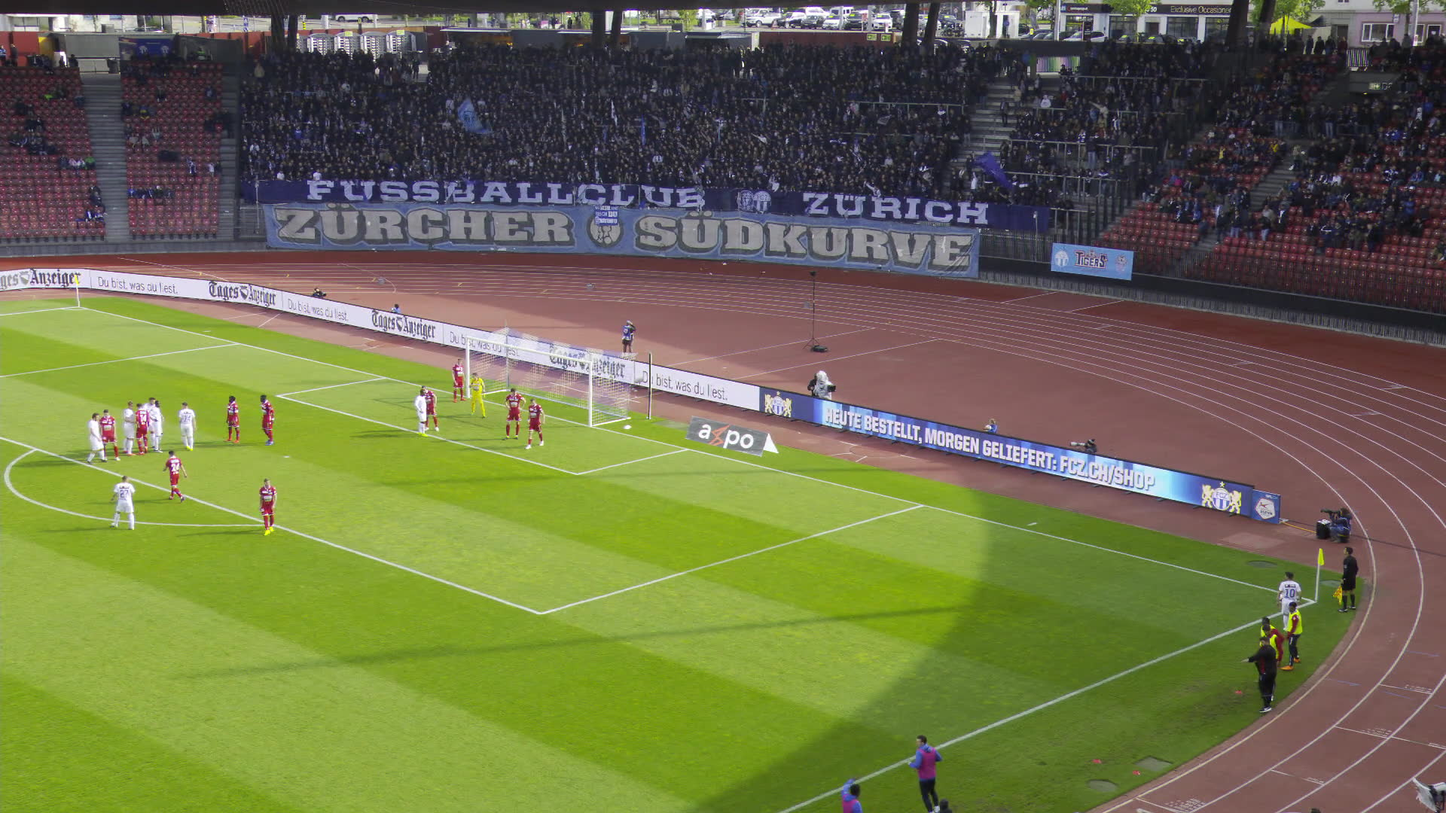ball: (1276, 593, 1281, 599)
player: (1276, 569, 1301, 633), (112, 473, 139, 530), (134, 395, 161, 451), (499, 386, 525, 440), (522, 395, 547, 449), (161, 448, 186, 501), (255, 477, 277, 536), (98, 408, 121, 460), (255, 392, 277, 446), (174, 400, 196, 451), (132, 400, 151, 455), (86, 412, 106, 464), (467, 370, 488, 419), (419, 383, 440, 431), (119, 399, 136, 457), (221, 393, 240, 444), (145, 399, 163, 452), (447, 356, 467, 402), (412, 387, 427, 436)
